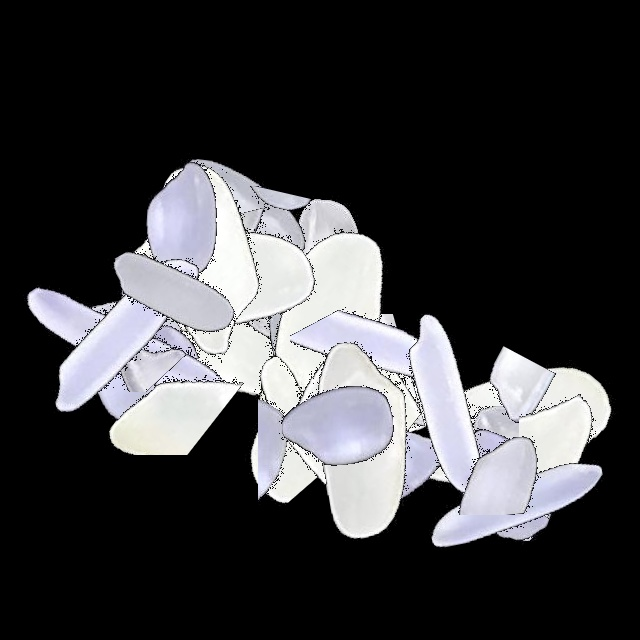Broken: (155, 139, 329, 389), (213, 257, 382, 507), (323, 311, 492, 561), (290, 256, 441, 506), (367, 365, 617, 515), (57, 217, 307, 363), (216, 338, 466, 473), (433, 348, 559, 598), (30, 329, 280, 455), (221, 314, 471, 437), (519, 330, 640, 580), (442, 287, 561, 537), (191, 393, 441, 510), (192, 145, 308, 395), (180, 106, 295, 356), (0, 288, 250, 392), (187, 308, 437, 411), (117, 222, 367, 320), (139, 181, 233, 431), (23, 262, 273, 353), (253, 301, 340, 551), (241, 365, 491, 445), (129, 186, 379, 262)
Full: (36, 178, 286, 428), (96, 198, 346, 448), (128, 161, 378, 411), (199, 144, 449, 394), (235, 269, 485, 519), (223, 274, 473, 524), (171, 259, 421, 509), (164, 192, 414, 442), (390, 306, 640, 556), (390, 347, 640, 597), (117, 88, 367, 338), (10, 193, 260, 443), (187, 258, 437, 508), (208, 302, 458, 552), (14, 256, 264, 506), (206, 195, 456, 445), (0, 240, 250, 490), (0, 221, 250, 471), (77, 130, 327, 380), (382, 364, 632, 614), (55, 92, 305, 342), (0, 211, 250, 461), (238, 312, 488, 562), (323, 278, 573, 528), (48, 164, 298, 414), (213, 299, 463, 549), (390, 380, 640, 630)
